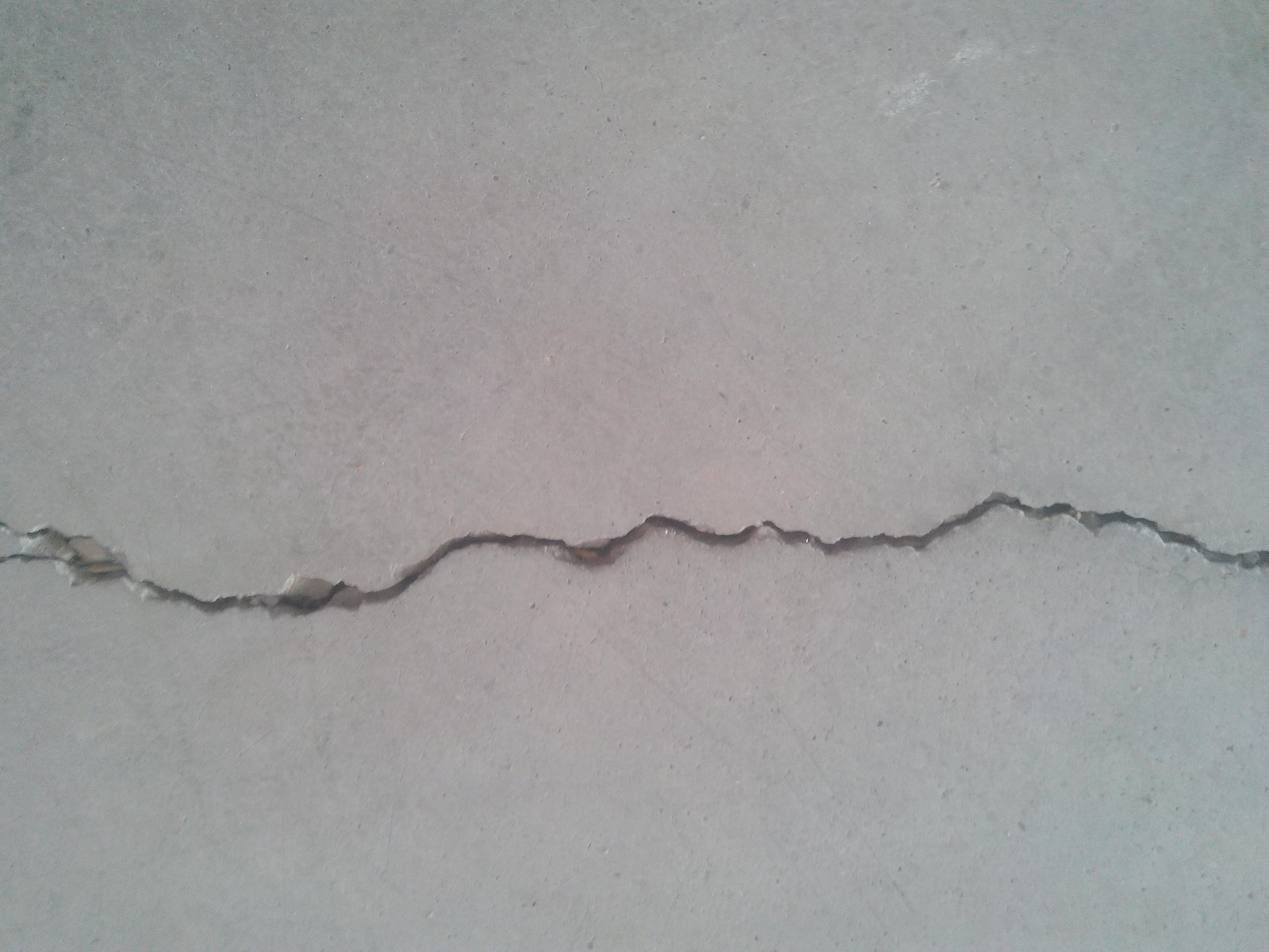Horizontal Settlement Crack: (4, 487, 1265, 620)
